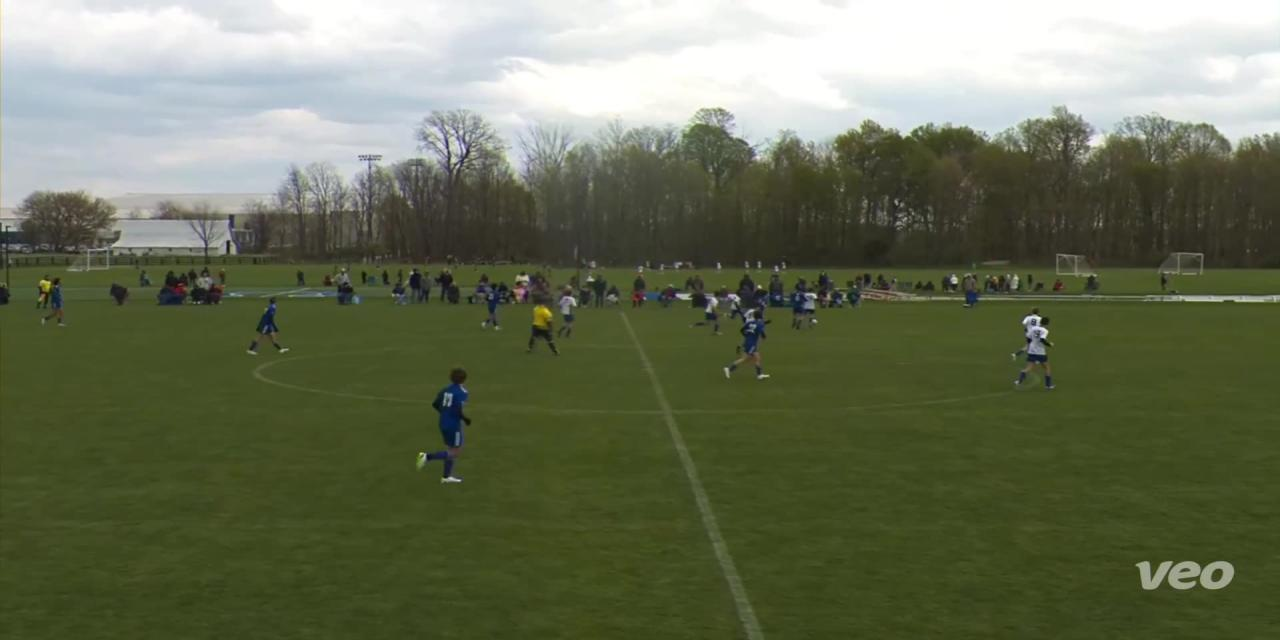sports ball: (809, 313, 822, 330)
